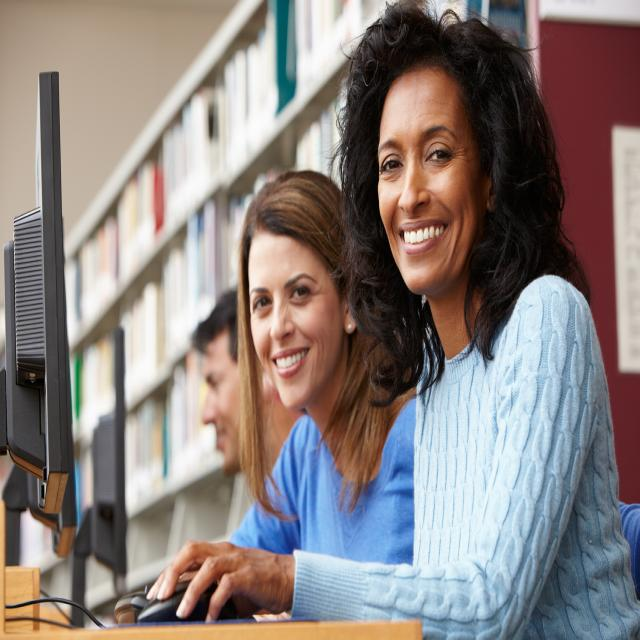adult: (144, 0, 640, 640), (228, 169, 414, 562), (188, 289, 244, 536)
